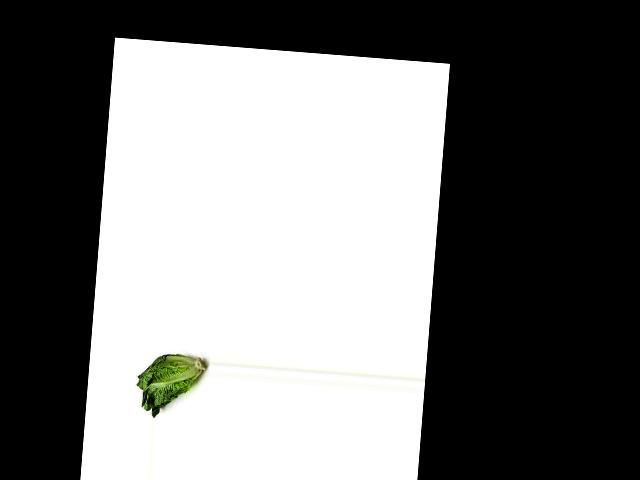lettuce: (131, 348, 204, 420)
